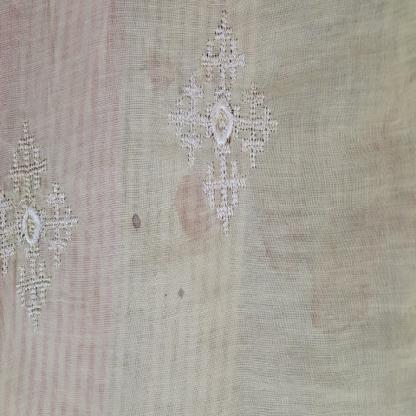spot: (300, 0, 407, 366), (272, 36, 403, 245), (257, 156, 368, 341), (170, 172, 218, 254), (132, 32, 182, 100), (163, 281, 186, 311), (130, 204, 142, 240)
